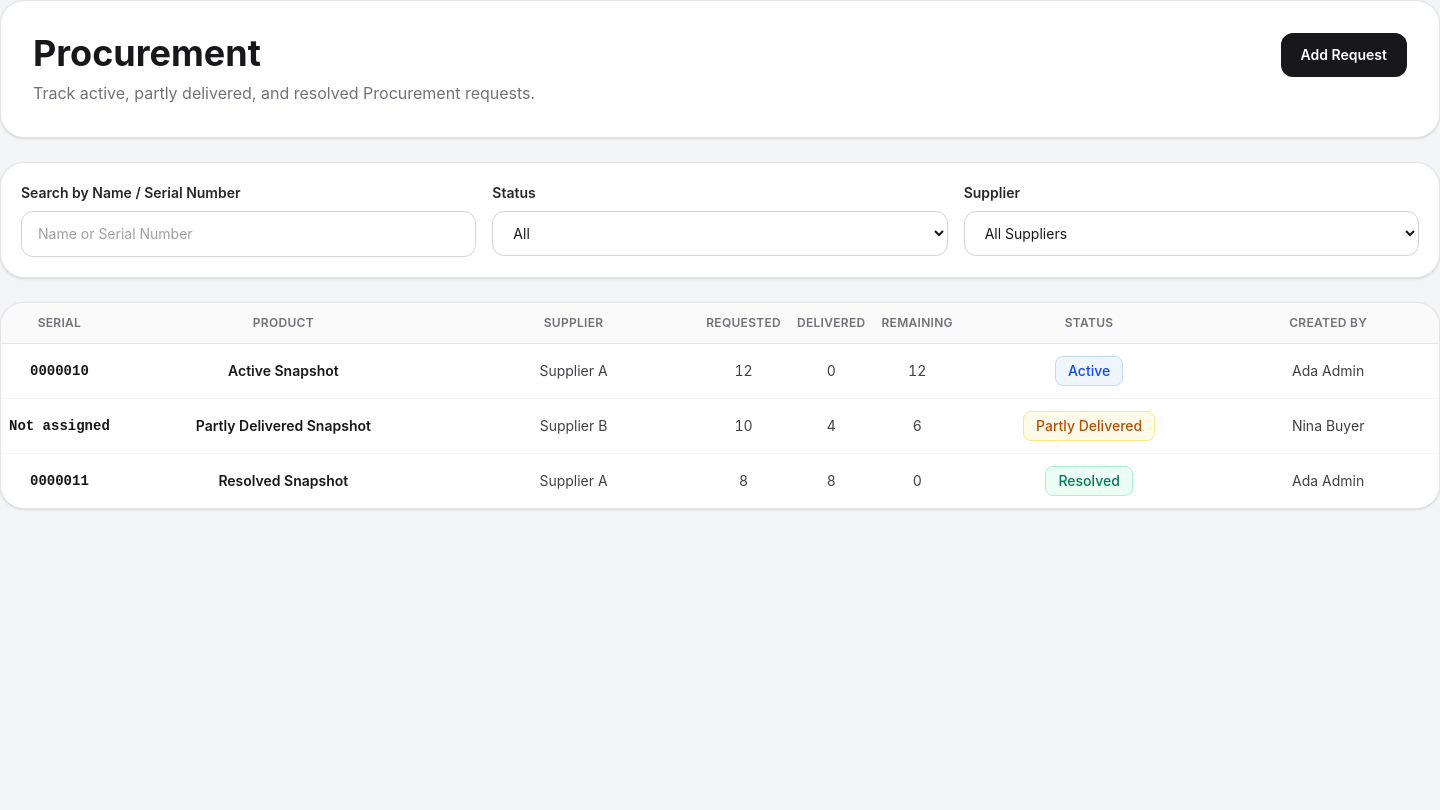
ProcurementPage › shows both focused Add Request modes only when creation is authorized
Click the button "Add Request".
click(1344, 55)  # box [1281,33,1407,77]
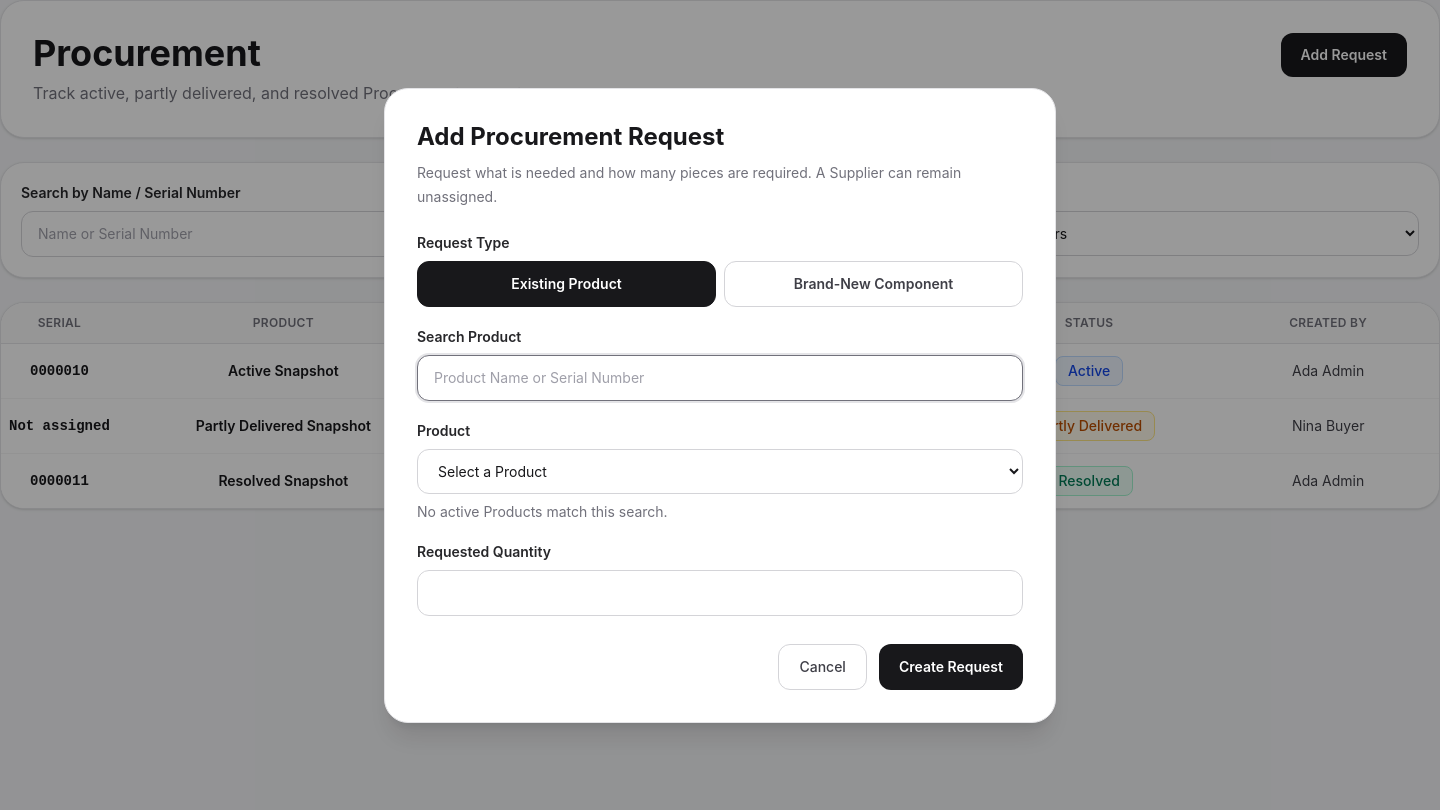
expect the dialog "Add Procurement Request" is shown: met, box [384,88,1056,722]
expect the button "Existing Product" is shown: met, box [417,260,716,306]
expect the button "Brand-New Component" is shown: met, box [724,260,1023,306]
